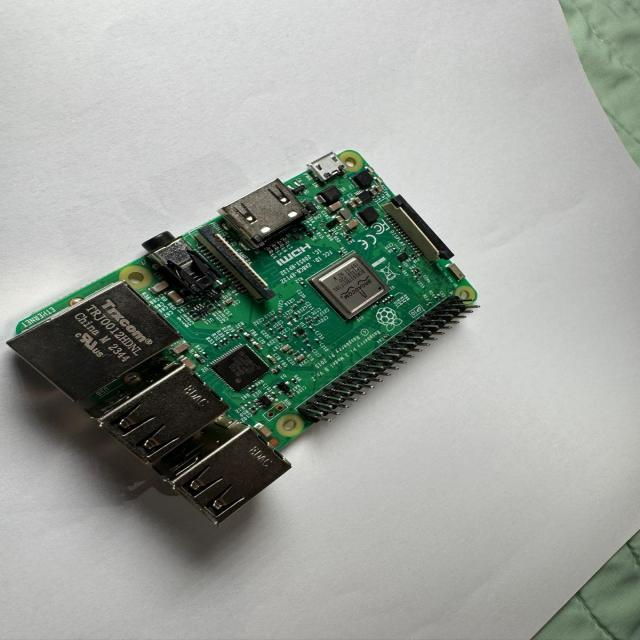CPU: (296, 294, 485, 424), (304, 251, 392, 322)
Ethernet: (5, 278, 187, 403)
HDMI: (218, 178, 316, 251)
RAM-3: (203, 341, 276, 394)
Raspberry: (14, 149, 478, 514)
